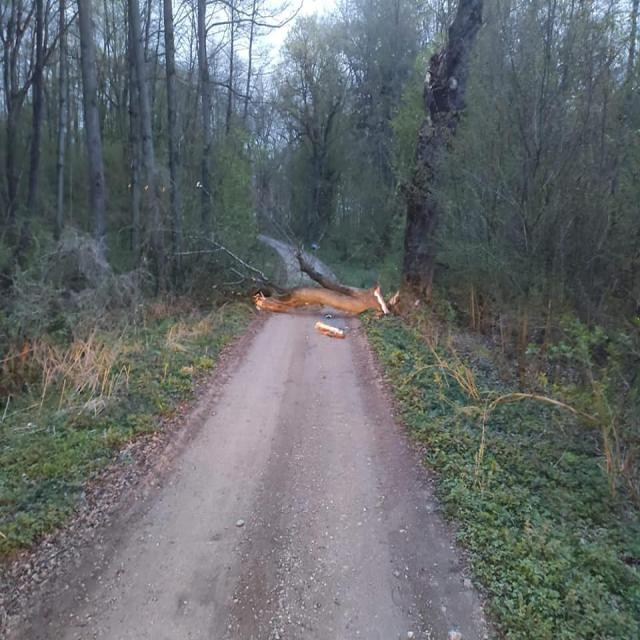fallen_tree: (229, 255, 396, 317)
